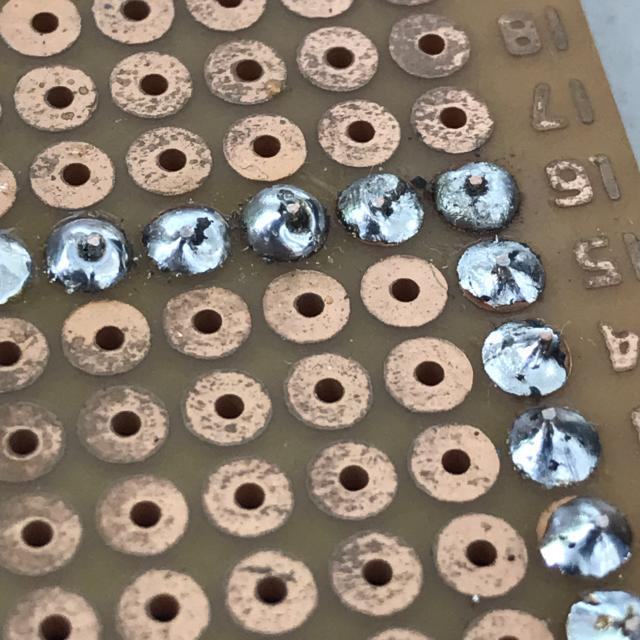hole: (233, 177, 336, 276), (328, 164, 435, 258), (426, 153, 533, 245), (135, 197, 243, 285), (39, 208, 138, 300)
pad_less: (500, 398, 615, 497), (475, 311, 582, 408), (532, 488, 638, 583), (449, 233, 557, 323)
